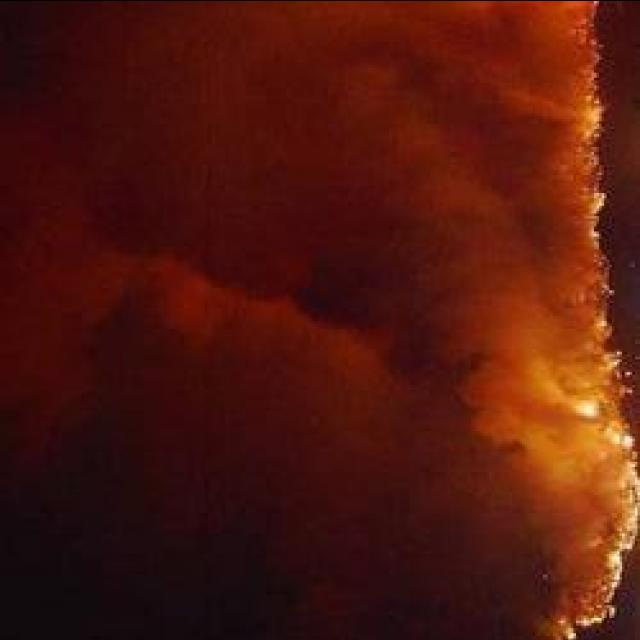smoke: (153, 283, 432, 465), (474, 423, 616, 521), (461, 15, 582, 129), (466, 336, 604, 428)
